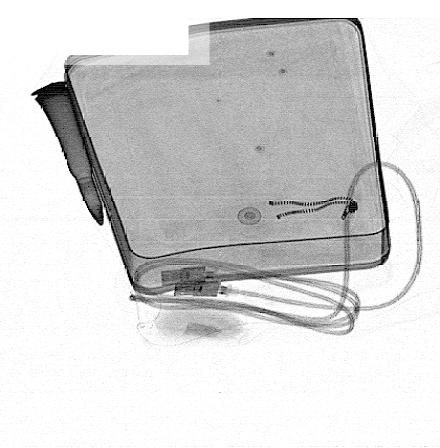Bullet: (30, 80, 104, 227)
